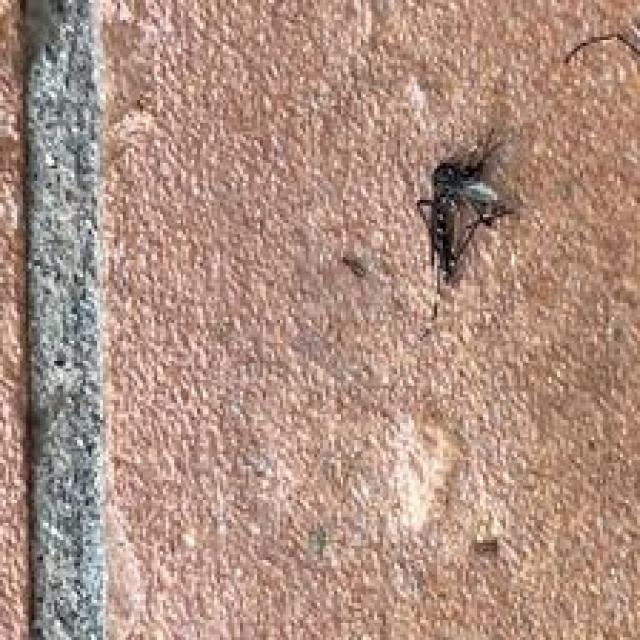Aedes albopictus: (413, 126, 518, 294)
